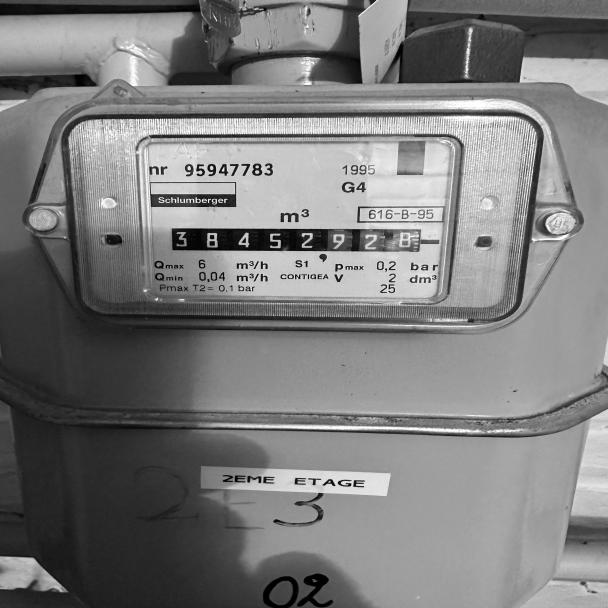2: (290, 226, 330, 252), (359, 228, 391, 250)
3: (170, 226, 196, 253)
4: (228, 224, 260, 252)
5: (259, 226, 293, 252)
8: (198, 226, 228, 254), (390, 228, 420, 252)
9: (328, 227, 358, 255)
cm: (327, 224, 427, 255)
counter: (165, 224, 332, 255)
